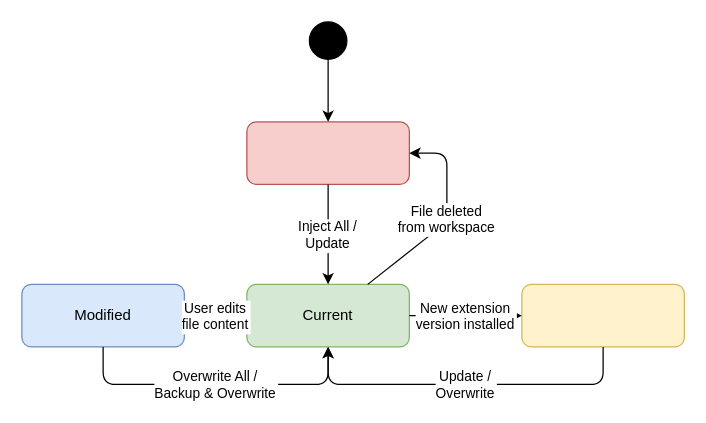
Image size: 706x423. Some labels were removed from this diagram. Each missing label, with the centre of its shape:
Missing: point 327,152
Outdated: point 602,315
